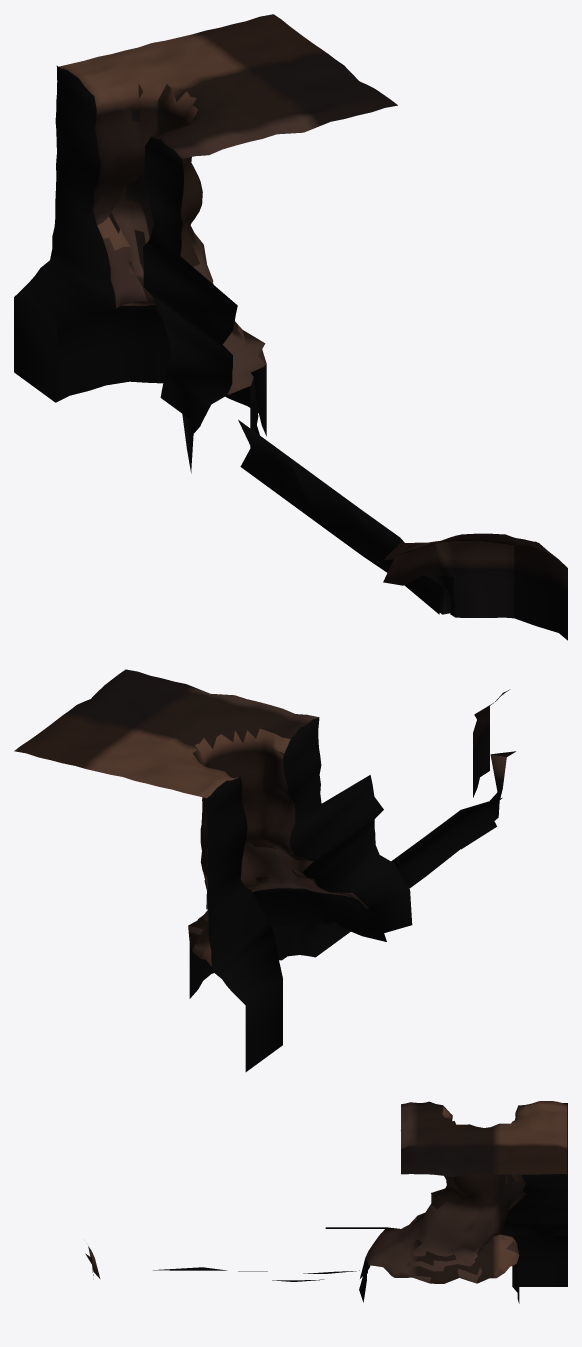
File: Hole.fbx
3 renders of one model, top to bottom at view 1: azimuth 30°, elevation 25°; view 2: azimuth 150°, elevation 25°; view 3: azimuth 270°, elevation 25°, orthographic. The views are drawn at different scales.
Parts seen in each view (by area): view 1: Plane.002, Plane.003, Plane.004; view 2: Plane.002, Plane.003, Plane.004; view 3: Plane.002.
Part boxes in pixels (box(x1,y1,x2,y2)): Plane.002: box(14, 14, 567, 640); Plane.003: box(57, 305, 265, 398); Plane.004: box(400, 539, 441, 614); Plane.002: box(14, 669, 515, 1071); Plane.003: box(190, 888, 386, 967); Plane.004: box(458, 797, 502, 849); Plane.002: box(85, 1101, 567, 1303).
Bounding box in the file's own units: 5637 × 6180 × 15379.
5 materials, 3 textured.
